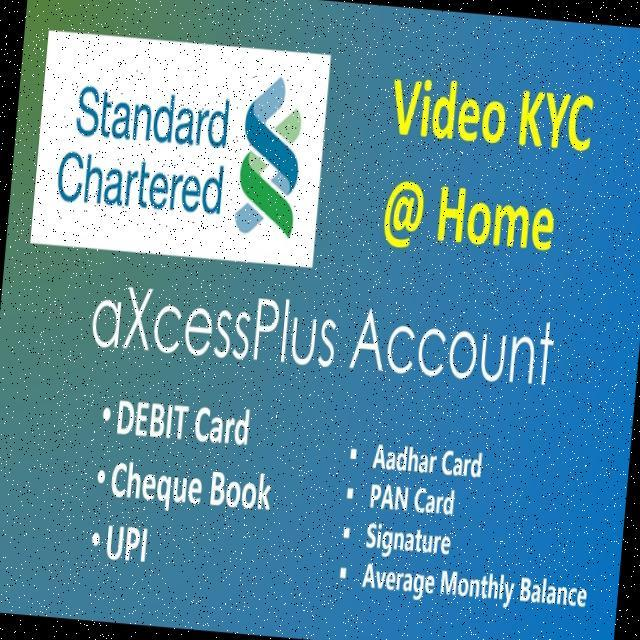Standard Chartered: (54, 57, 308, 240)
